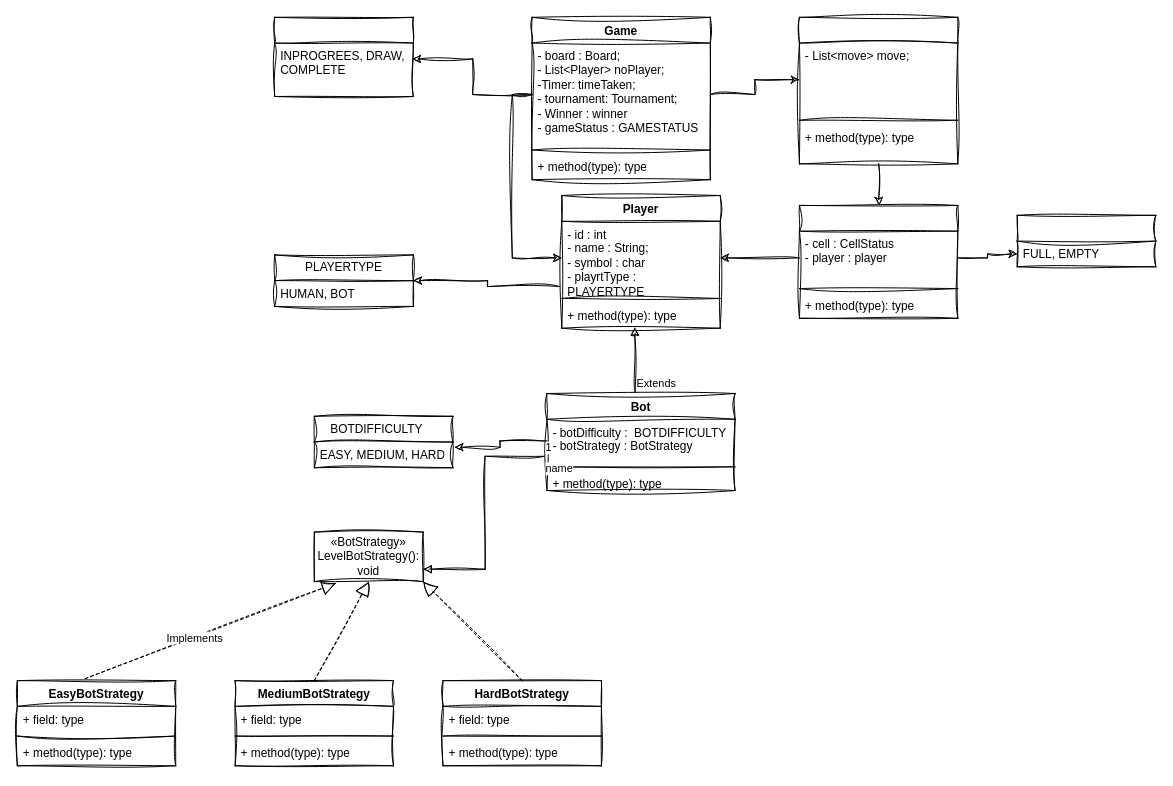
This 1173x786 diagram has some shape labels left out. The shapes that lost their labels are listed below. From the top down, each one's box as (x1, y1, x2, y2) in pixels, then its label:
(274, 16, 413, 97): GAMESTATUS
(798, 16, 958, 164): Board
(1016, 214, 1156, 267): CELLSTATUS
(798, 204, 958, 318): Move
